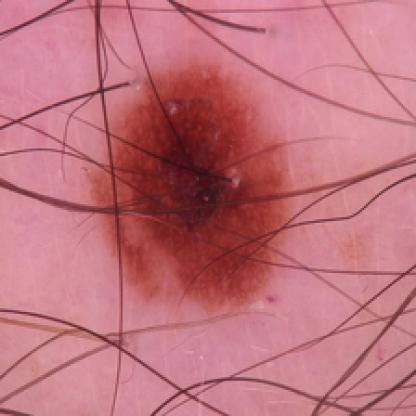benign: (80, 60, 319, 318)
